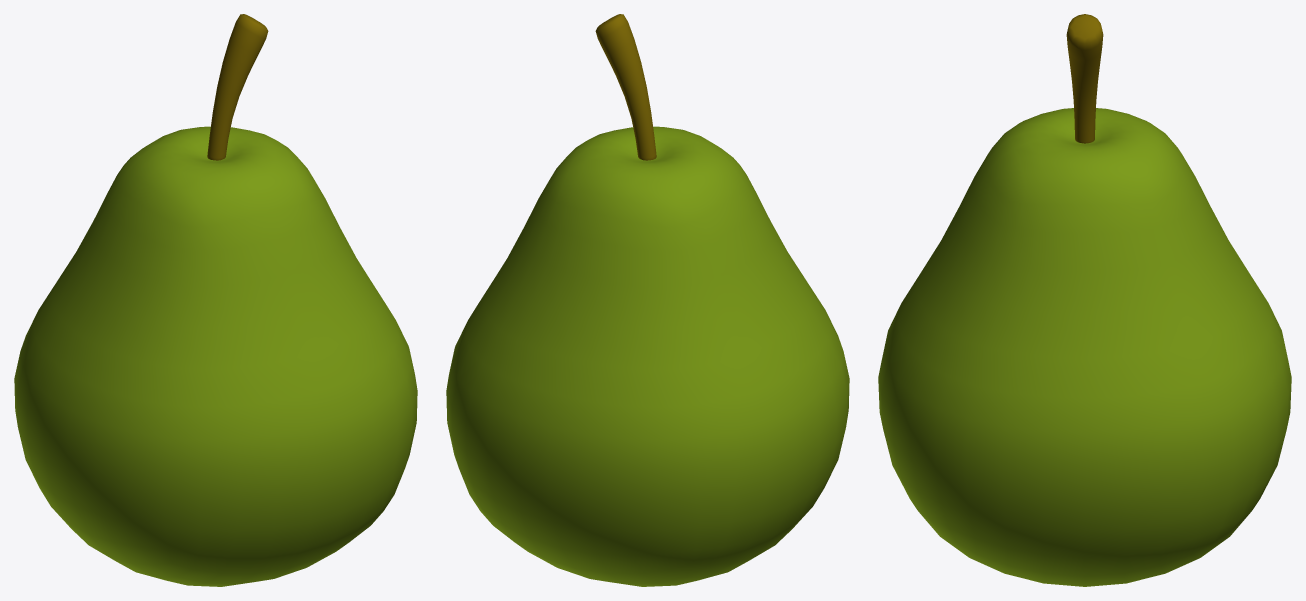
Rendered from Pear.fbx.
3 views of the same model, side by side, from view 1: azimuth 30°, elevation 25°; view 2: azimuth 150°, elevation 25°; view 3: azimuth 270°, elevation 25° (orthographic). The views are drawn at different scales.
Parts seen in each view (by area): view 1: Pear; view 2: Pear; view 3: Pear.
Boxes of the visible parts, x1=… form: Pear: x1=14, y1=14, x2=417, y2=586; Pear: x1=446, y1=14, x2=849, y2=586; Pear: x1=878, y1=14, x2=1291, y2=586.
Size of the model in its own units: 194 by 293 by 194.
